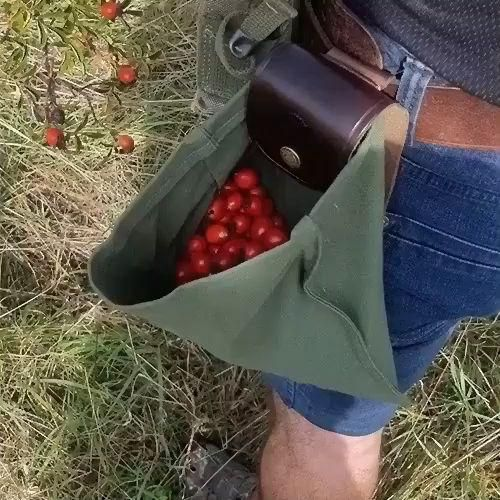cuero: (244, 41, 500, 193)
